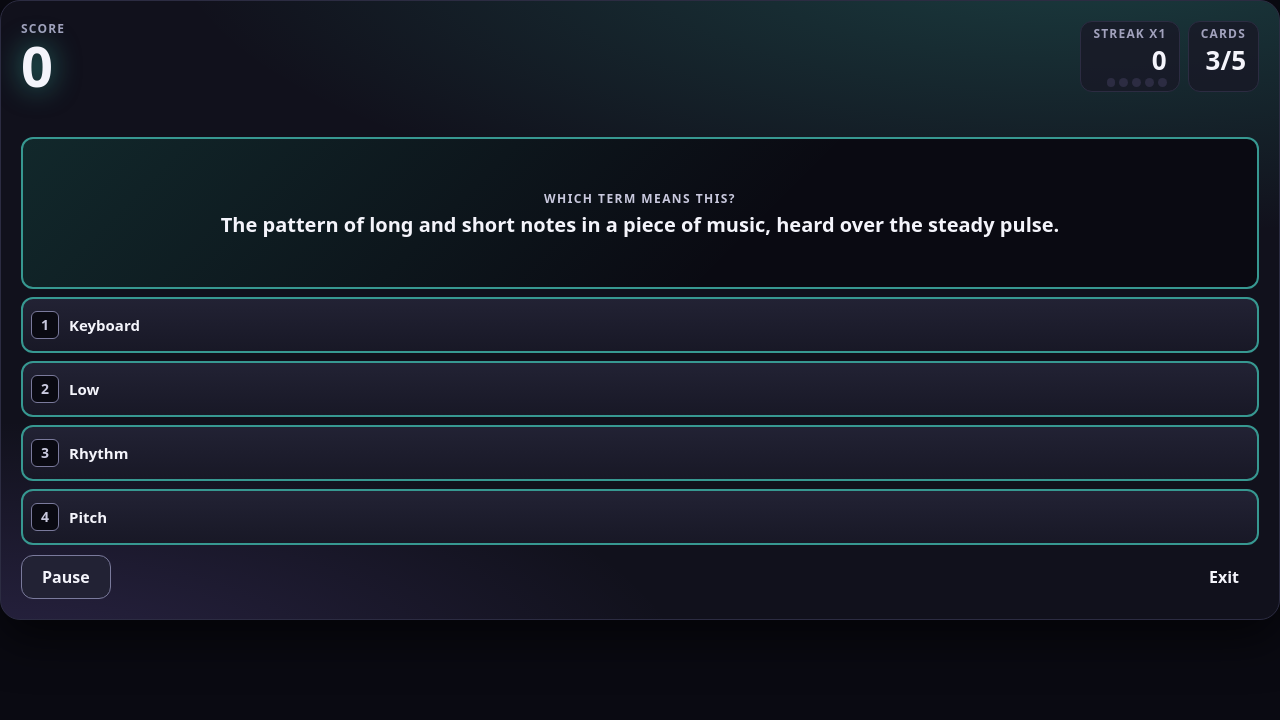
untimed round by pointer: start -> play -> reveal -> results › counts a card as wrong, never ends the round, and shows the revision list in the order most missed first
Earlier steps of the test are not shown.
Click the button "4 Pitch".
click(88, 517)  # box [21,489,1259,545]
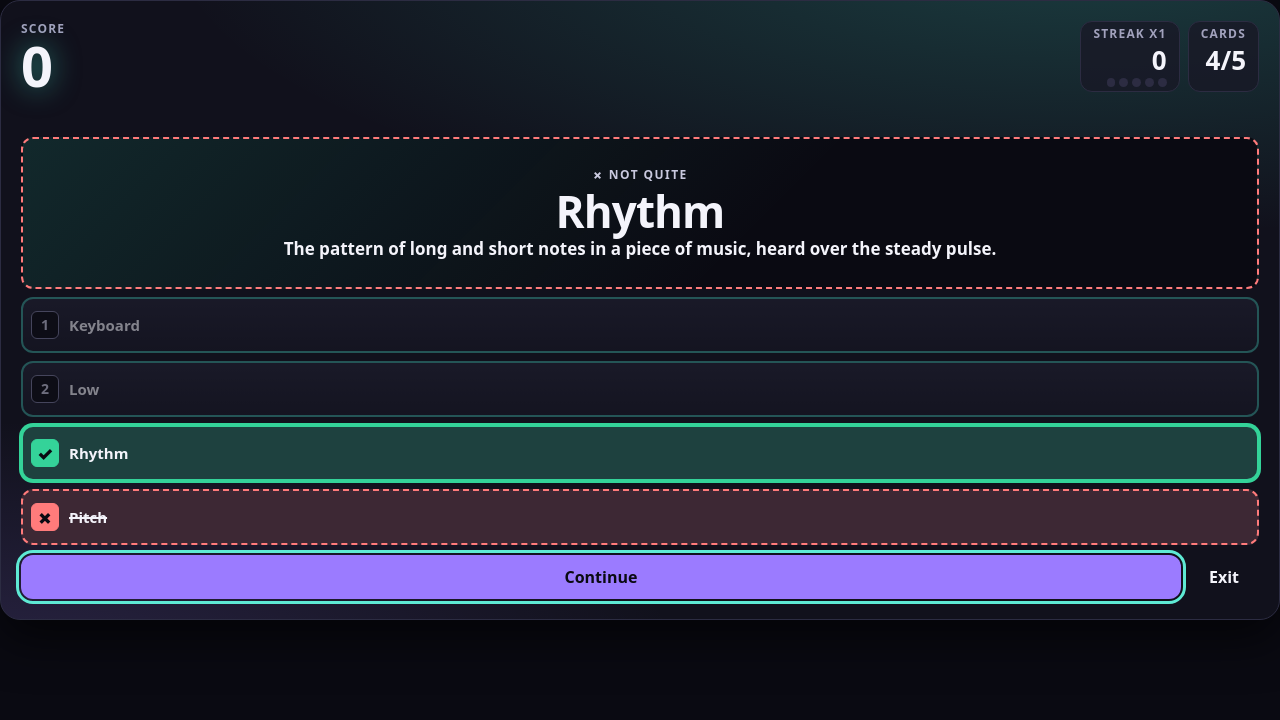
Click the button "Continue".
click(601, 577)  # box [21,555,1181,599]
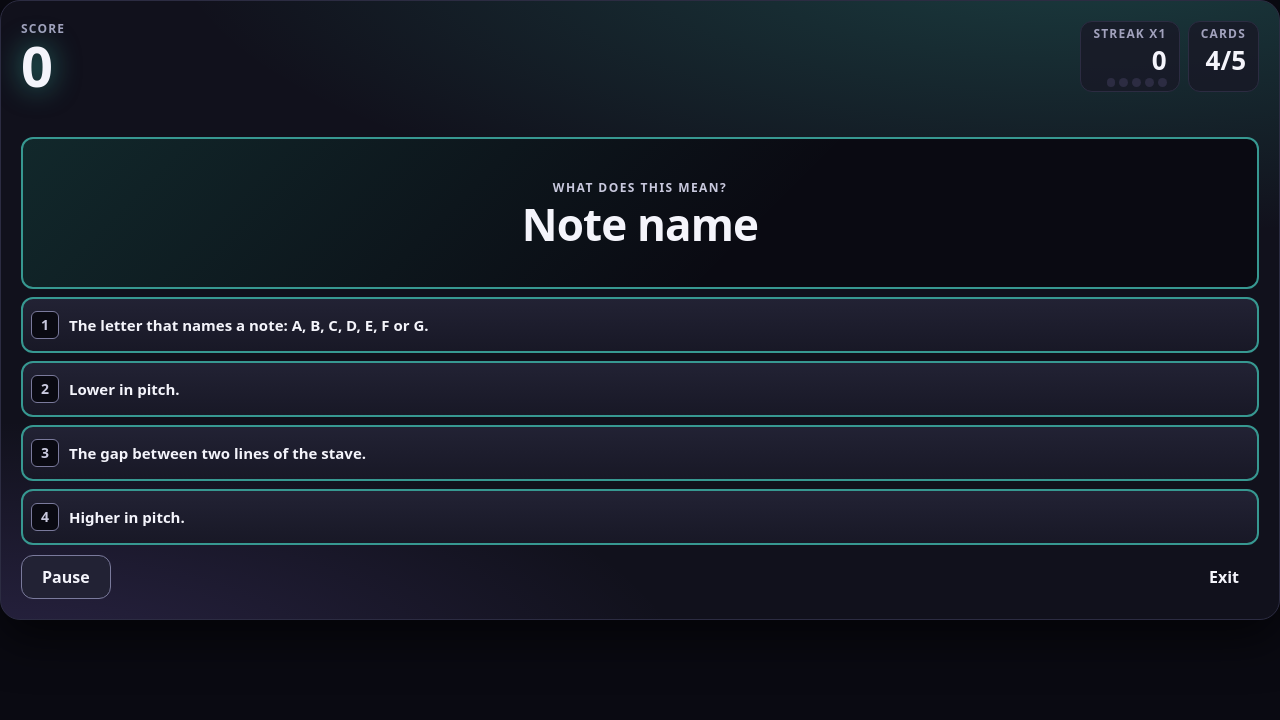
Click the button "2 Lower in pitch.".
click(124, 389)  # box [21,361,1259,417]
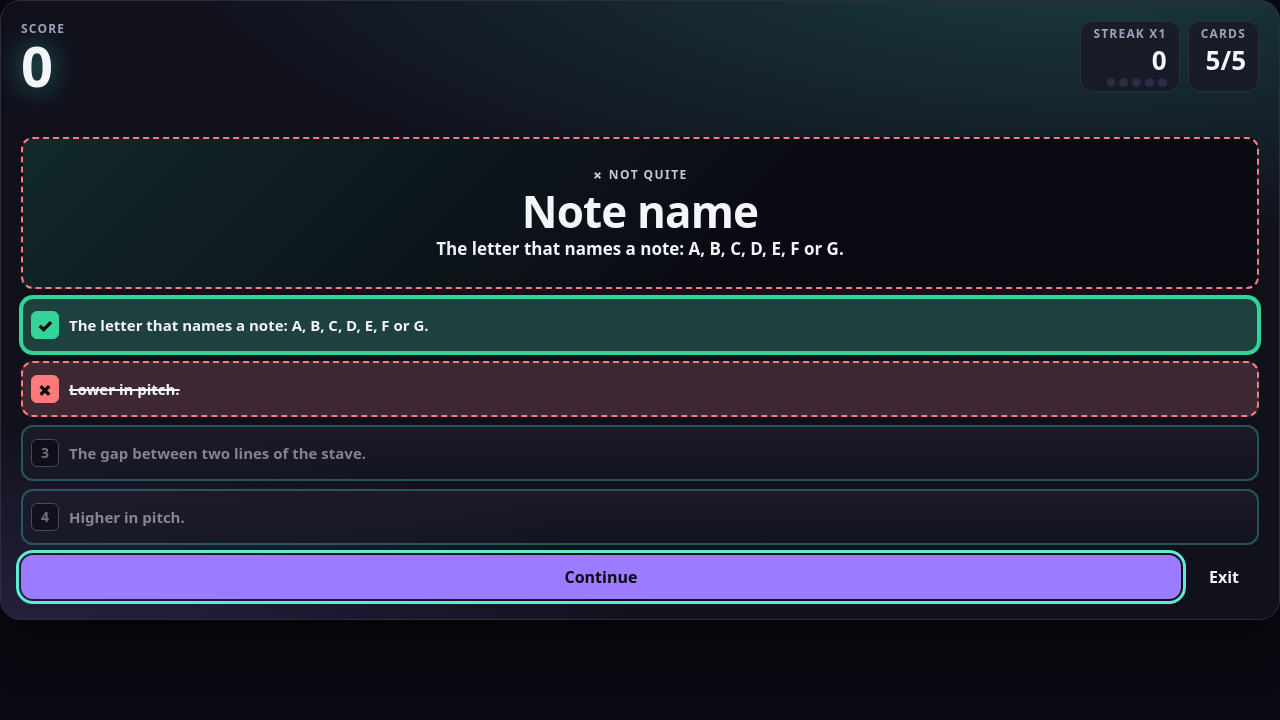
Click the button "Continue".
click(601, 577)  # box [21,555,1181,599]
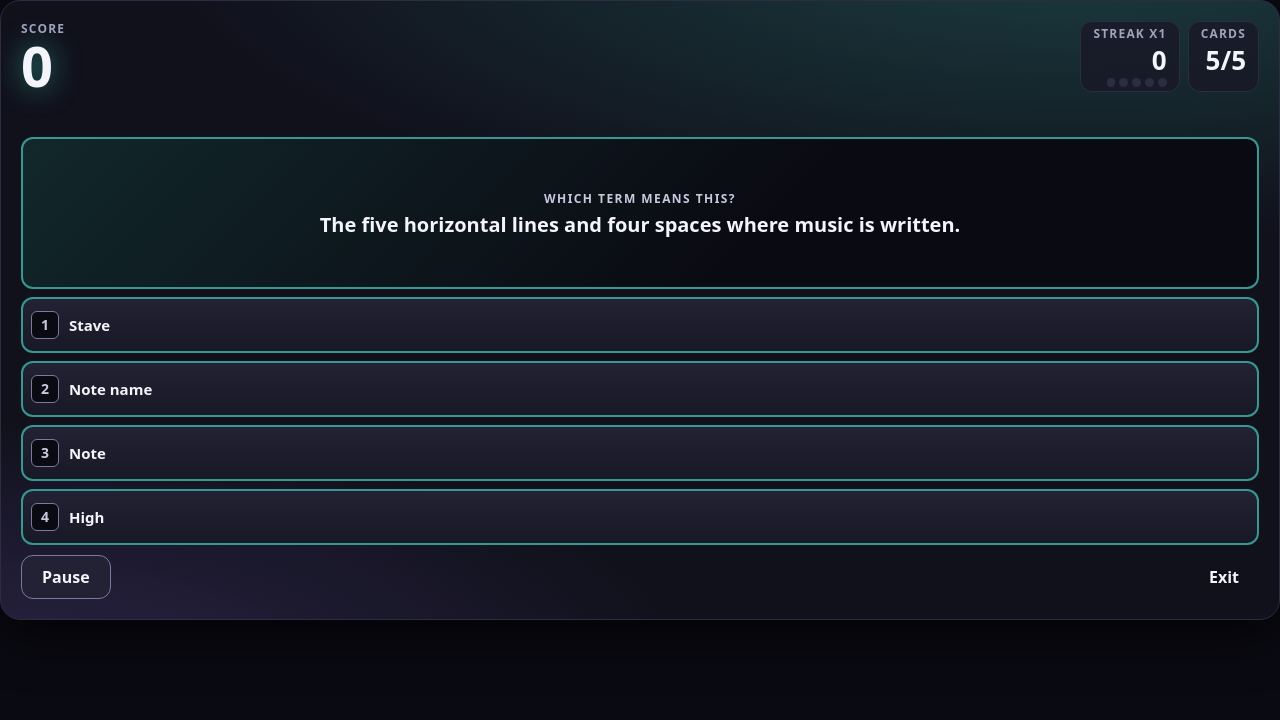
Click the button "2 Note name".
click(111, 389)  # box [21,361,1259,417]
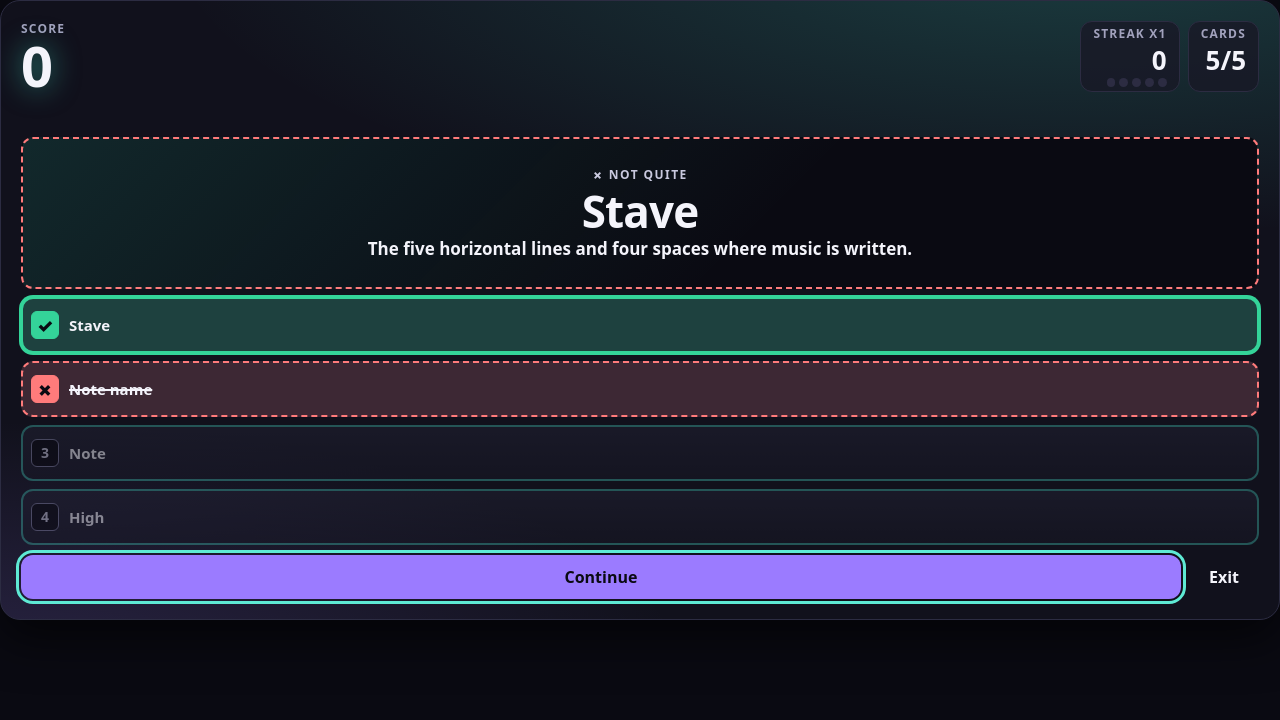
Click the button "Continue".
click(601, 577)  # box [21,555,1181,599]
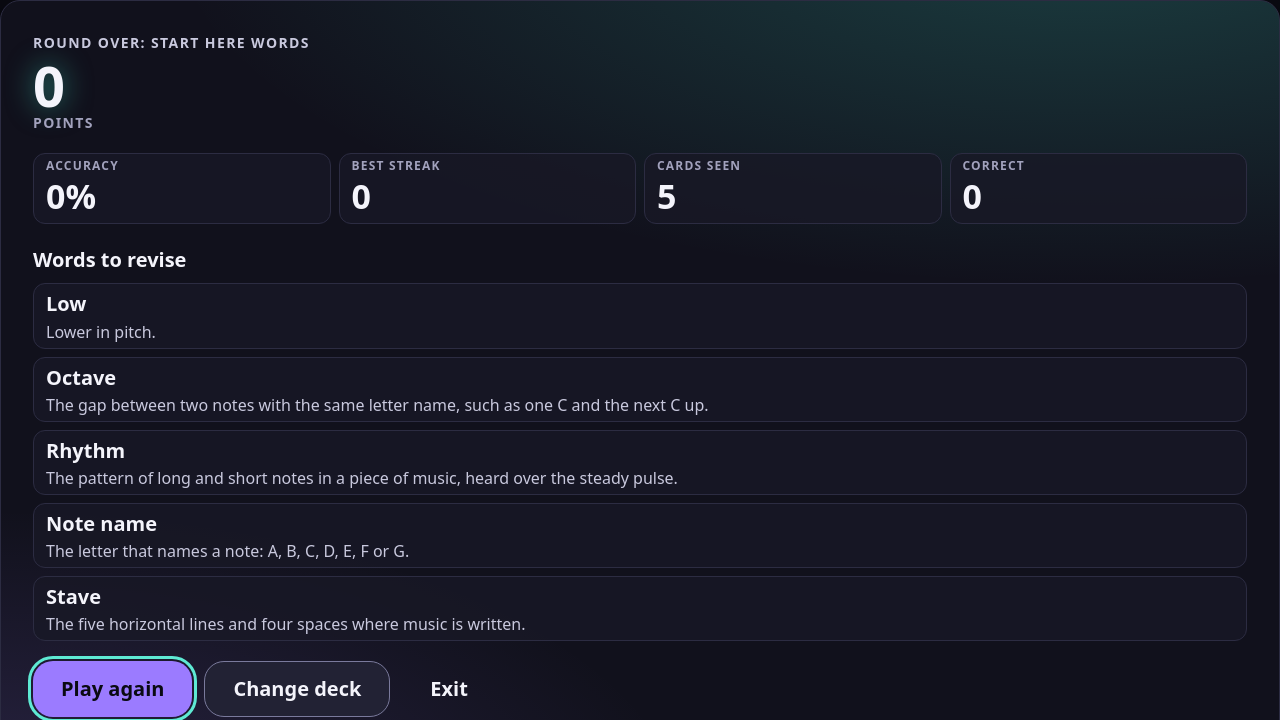
Check: the text "0%" is shown, box [46,173,96,219]
Check: the number of list items with test id "tb-revise-item" is 5, box [33,283,1247,348]; [33,356,1247,422]; [33,430,1247,495]; [33,503,1247,568]; [33,576,1247,641]
